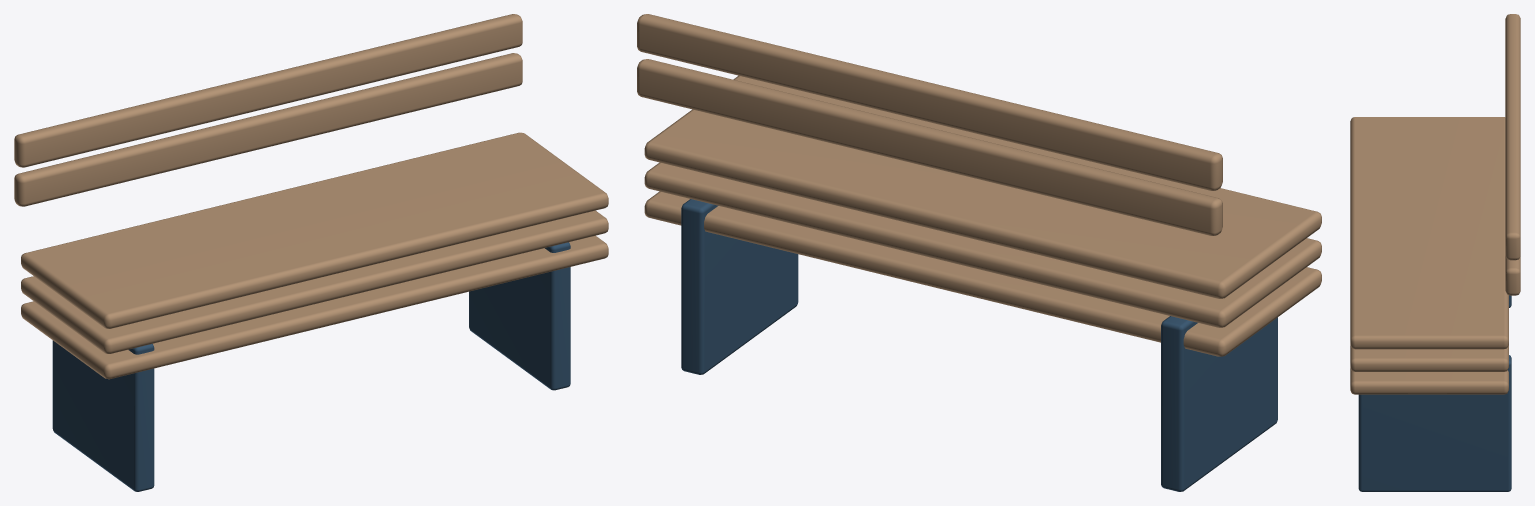
The model's file is HL_Bench_Promenade.fbx.
3 views of the same model, side by side, from view 1: azimuth 30°, elevation 25°; view 2: azimuth 150°, elevation 25°; view 3: azimuth 270°, elevation 25° (orthographic). The views are drawn at different scales.
Parts seen in each view (by area): view 1: Bench | seat slat.002, Bench | back slat, Bench | back slat.001, Bench | seat slat.001, Bench | seat slat, Bench | steel leg, Bench | steel leg.001; view 2: Bench | seat slat.002, Bench | back slat.001, Bench | back slat, Bench | seat slat.001, Bench | seat slat, Bench | steel leg, Bench | steel leg.001; view 3: Bench | seat slat.002, Bench | steel leg.001, Bench | back slat.001, Bench | seat slat.001, Bench | seat slat, Bench | back slat.
Part boxes in pixels (x1,y1,x2,y2): Bench | seat slat.002: [21, 132, 608, 328]; Bench | back slat: [14, 53, 522, 206]; Bench | back slat.001: [14, 14, 522, 167]; Bench | seat slat.001: [21, 210, 608, 353]; Bench | seat slat: [21, 235, 608, 379]; Bench | steel leg: [52, 340, 154, 491]; Bench | steel leg.001: [469, 242, 570, 390]; Bench | seat slat.002: [644, 75, 1321, 298]; Bench | back slat.001: [637, 14, 1222, 190]; Bench | back slat: [637, 59, 1222, 235]; Bench | seat slat.001: [644, 162, 1321, 327]; Bench | seat slat: [644, 191, 1321, 356]; Bench | steel leg: [1161, 316, 1277, 491]; Bench | steel leg.001: [681, 199, 798, 374]; Bench | seat slat.002: [1350, 117, 1508, 349]; Bench | steel leg.001: [1358, 355, 1511, 491]; Bench | back slat.001: [1505, 14, 1520, 260]; Bench | seat slat.001: [1350, 345, 1508, 371]; Bench | seat slat: [1350, 368, 1508, 394]; Bench | back slat: [1505, 256, 1520, 295].
Bounding box in the file's own units: 189 × 109 × 61.25.
